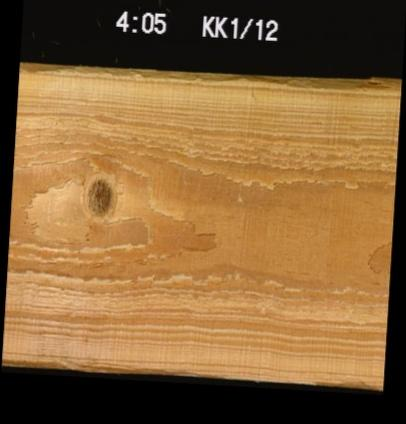sound_knot: (85, 176, 113, 216)
wave: (19, 61, 401, 85), (1, 361, 225, 375), (311, 378, 383, 389)
